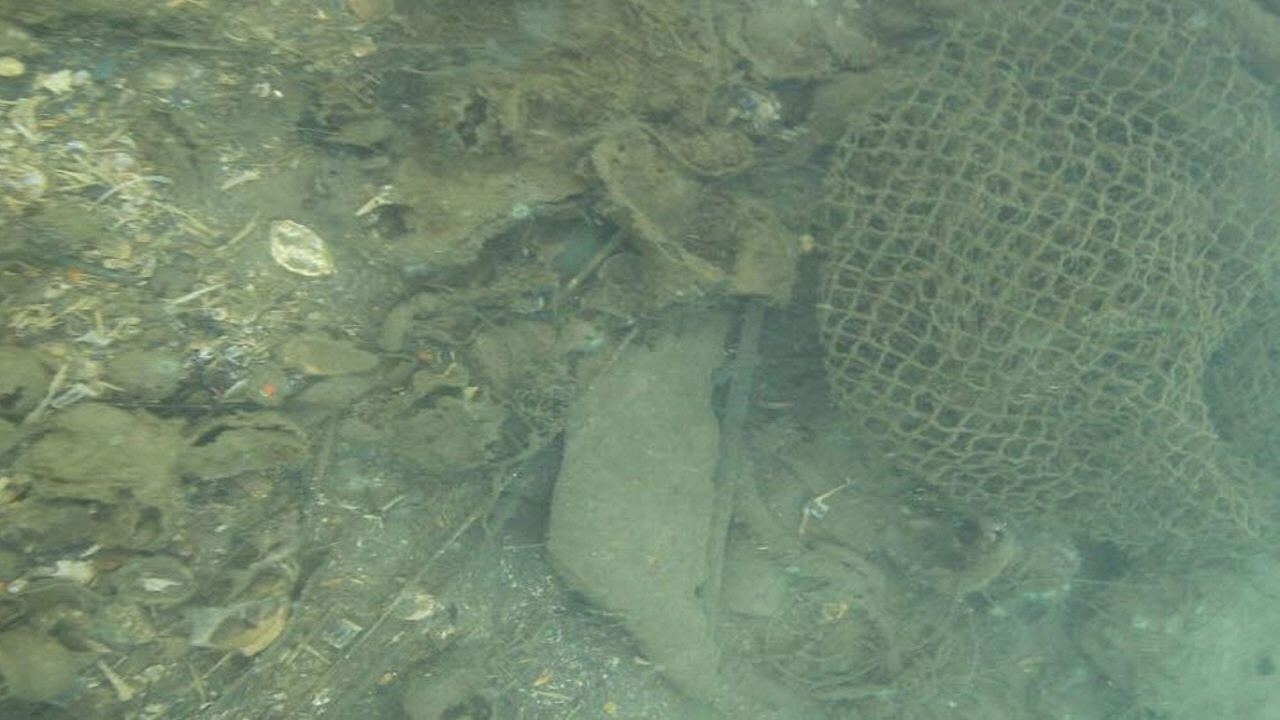fish net: (815, 0, 1280, 561)
